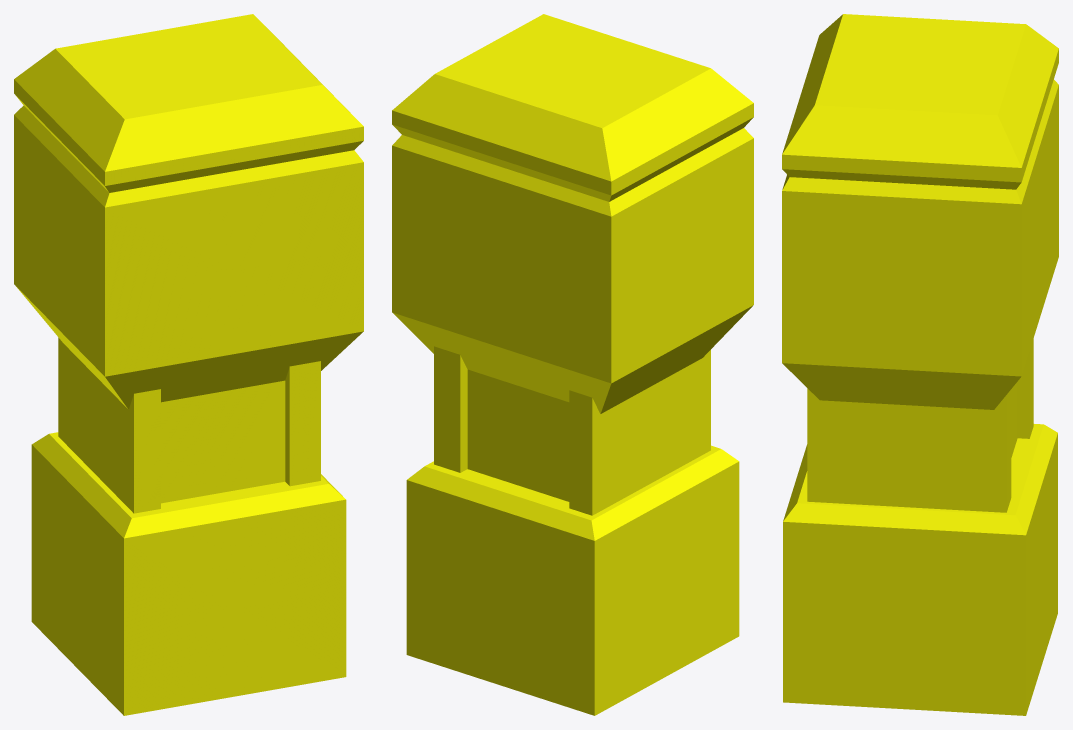
The model's file is 4st_pillar_002.glb.
3 views of the same model, side by side, from view 1: azimuth 30°, elevation 25°; view 2: azimuth 150°, elevation 25°; view 3: azimuth 270°, elevation 25° (orthographic). The views are drawn at different scales.
Parts seen in each view (by area): view 1: 2st_pillar_002; view 2: 2st_pillar_002; view 3: 2st_pillar_002.
Boxes of the visible parts, left/top/right/bottom form: 2st_pillar_002: left=14, top=14, right=363, bottom=715; 2st_pillar_002: left=392, top=14, right=753, bottom=715; 2st_pillar_002: left=782, top=14, right=1058, bottom=715.
Bounding box in the file's own units: 4.66 × 9.78 × 4.1.
1 material, 1 textured.
